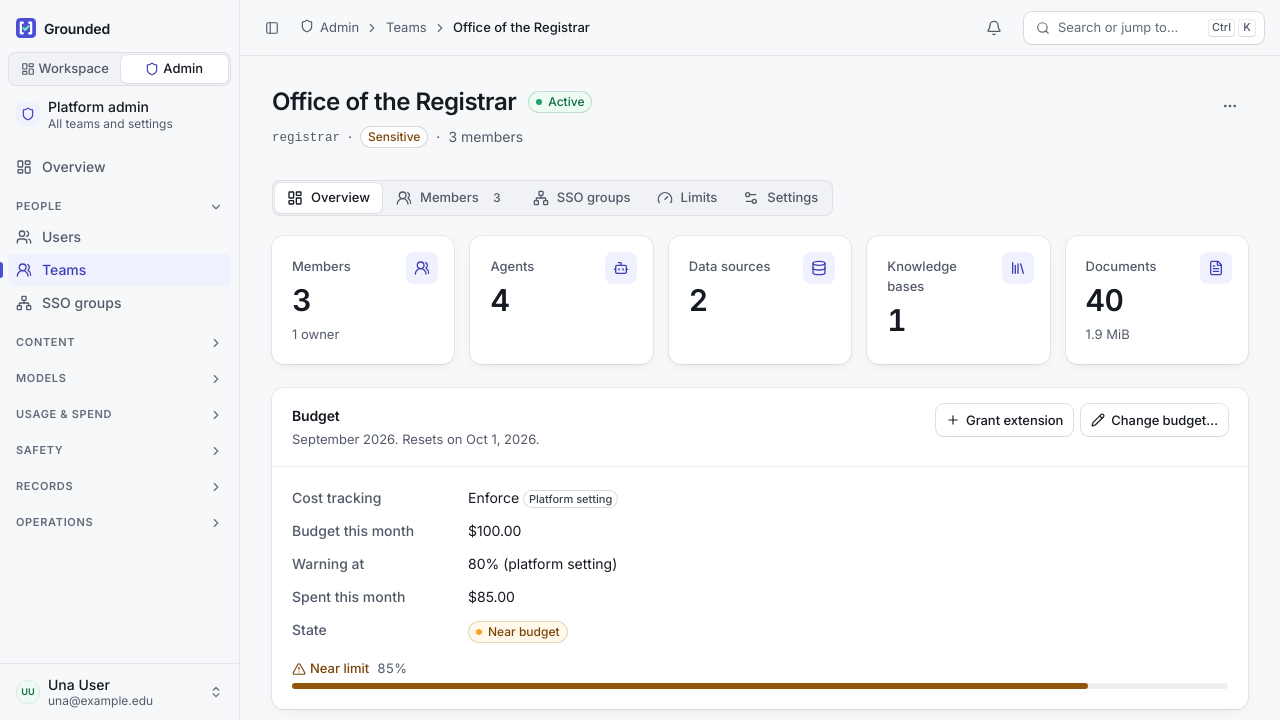
Test case: admin users and teams › shows the team's cost tracking and budget on its Overview, and only limits on Limits (I7)
Expected: the text "Cost tracking" is shown, [292,489,381,506]
Expected: the element showing "Near limit 85%" is shown, [292,659,1228,689]
Click the button "Change budget…". click: click(1155, 420)
box: [1081,404,1228,436]
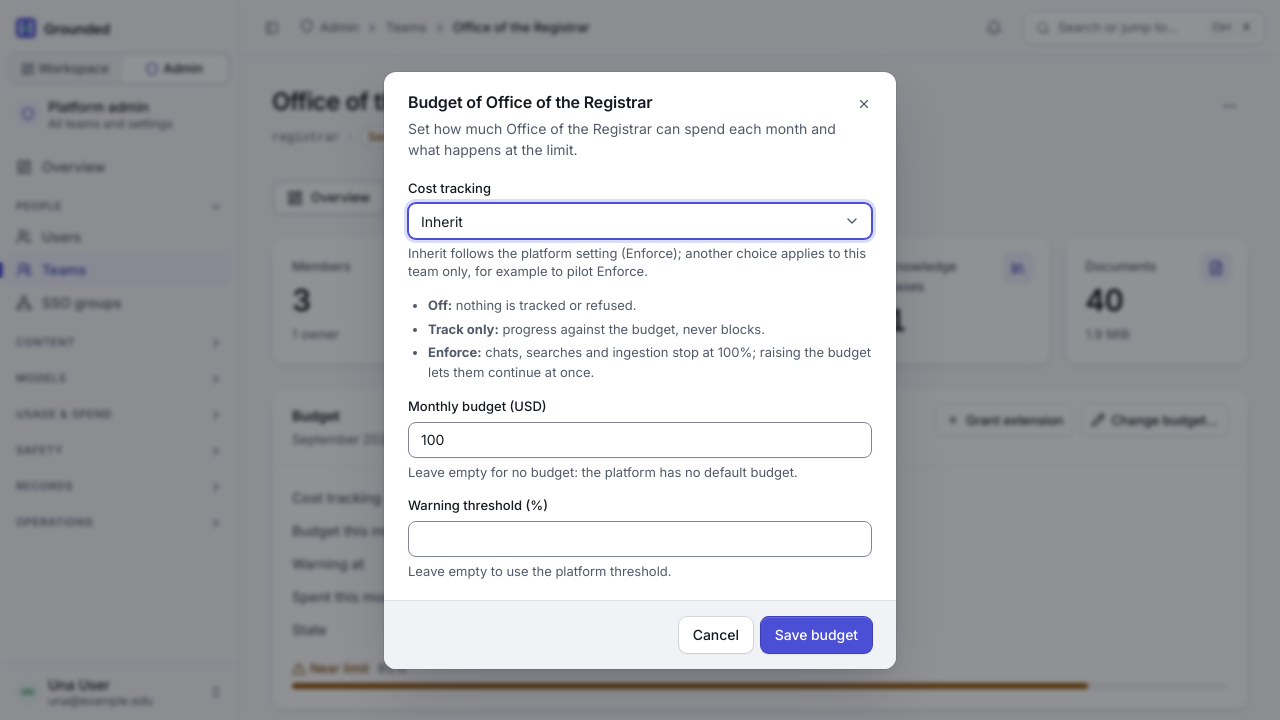
Result: the dialog "Budget of Office of the Registrar" is shown at [384,72,896,669]
Press Escape
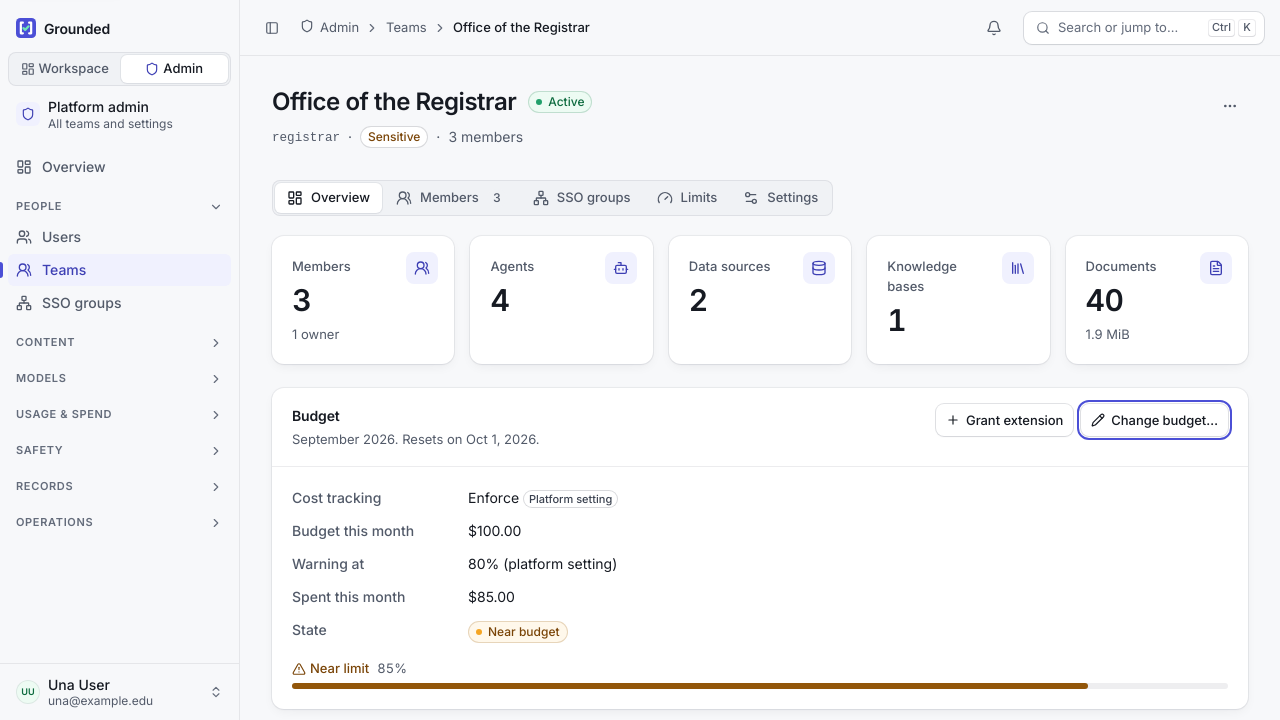
Click the tab "Limits". click: click(687, 198)
box: [644,183,729,213]
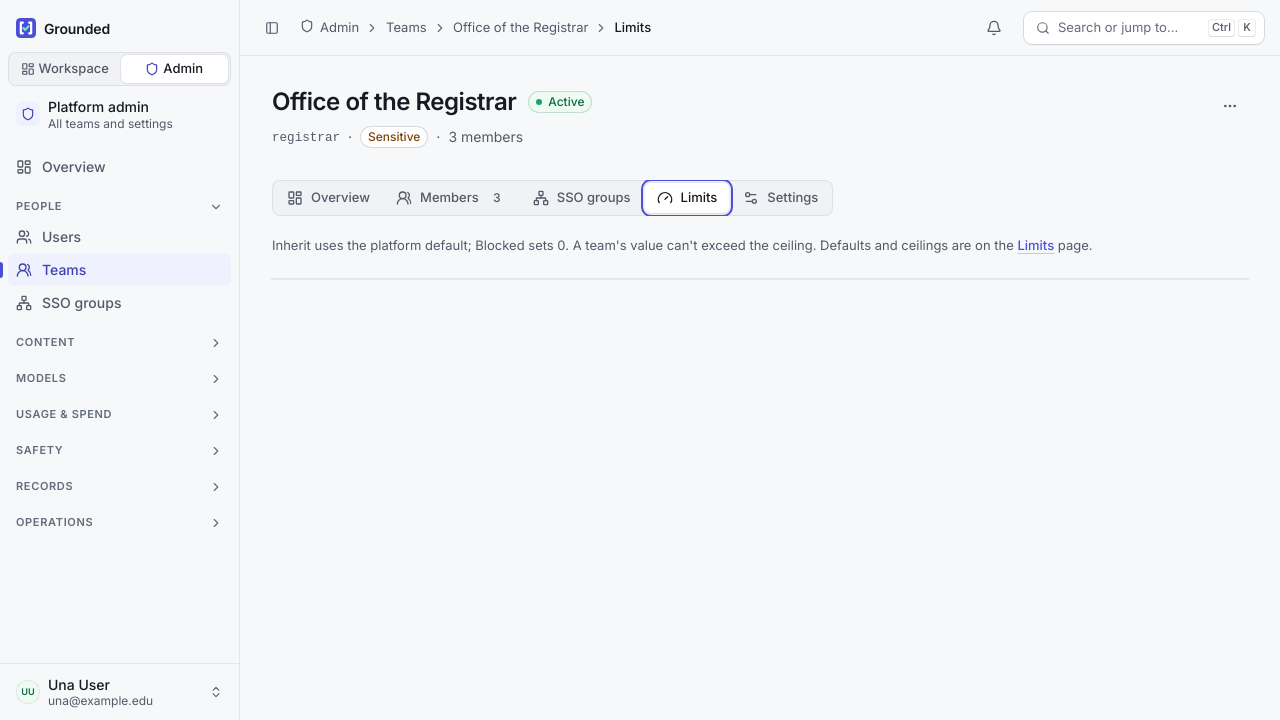
Result: the heading "Budget" is gone
